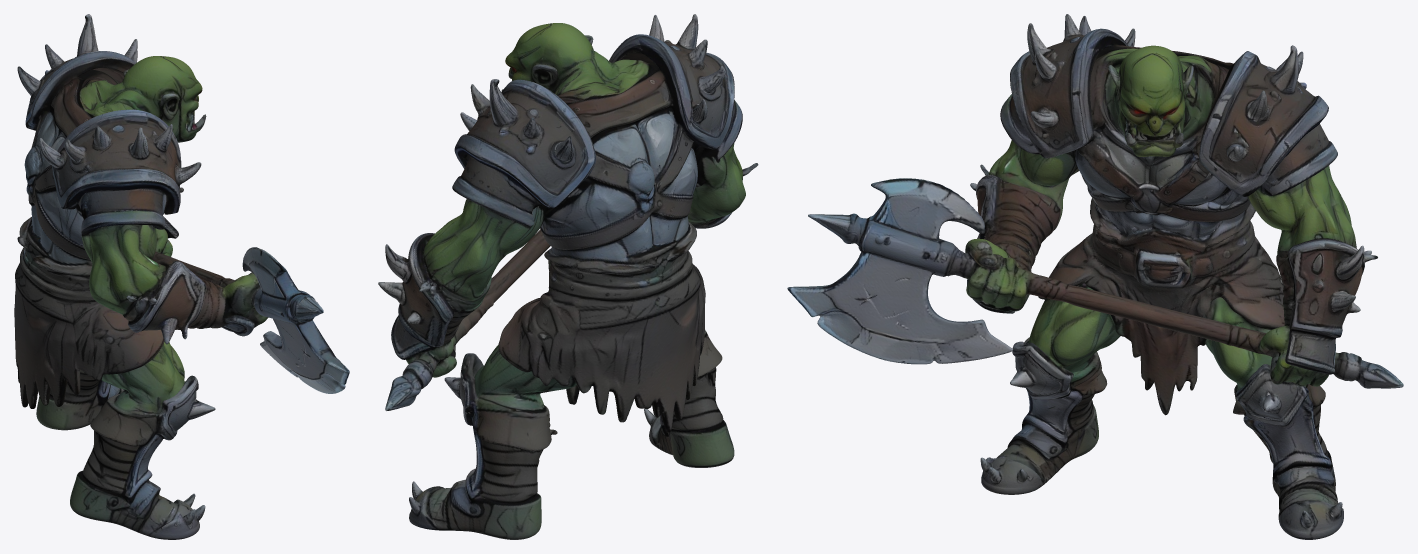
Rendered from floor2-orc-sword.glb.
The picture shows the model from 3 angles, left to right: view 1: azimuth 30°, elevation 25°; view 2: azimuth 150°, elevation 25°; view 3: azimuth 270°, elevation 25°; orthographic projection. The views are drawn at different scales.
Parts seen in each view (by area): view 1: tripo_node_2a5de80d-a46c-44d2-9ac1-846bfb3b4f9c; view 2: tripo_node_2a5de80d-a46c-44d2-9ac1-846bfb3b4f9c; view 3: tripo_node_2a5de80d-a46c-44d2-9ac1-846bfb3b4f9c.
Part boxes in pixels (x1,y1,x2,y2): tripo_node_2a5de80d-a46c-44d2-9ac1-846bfb3b4f9c: [14, 14, 349, 539]; tripo_node_2a5de80d-a46c-44d2-9ac1-846bfb3b4f9c: [378, 14, 758, 539]; tripo_node_2a5de80d-a46c-44d2-9ac1-846bfb3b4f9c: [787, 14, 1403, 539].
Bounding box in the file's own units: 0.4382 × 0.8272 × 1.
Materials: 1 (1 with a texture image).
